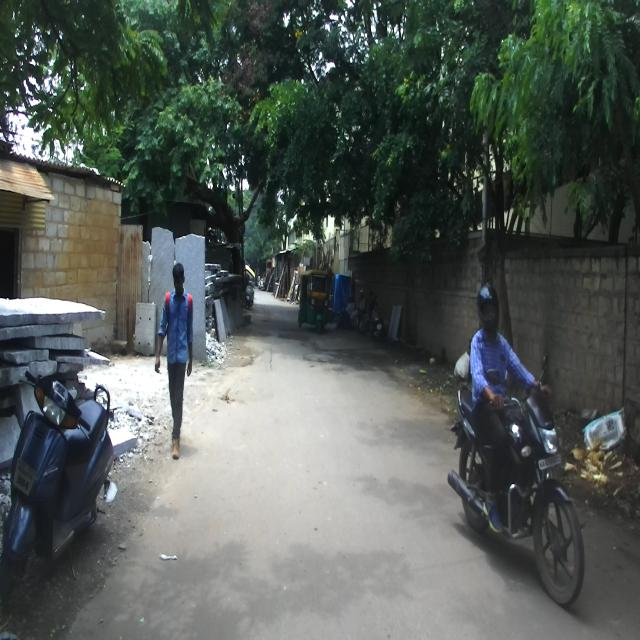motorcycle ahead at: (450, 377, 588, 614), (5, 364, 114, 588)
person ahead at: (152, 257, 195, 458)
